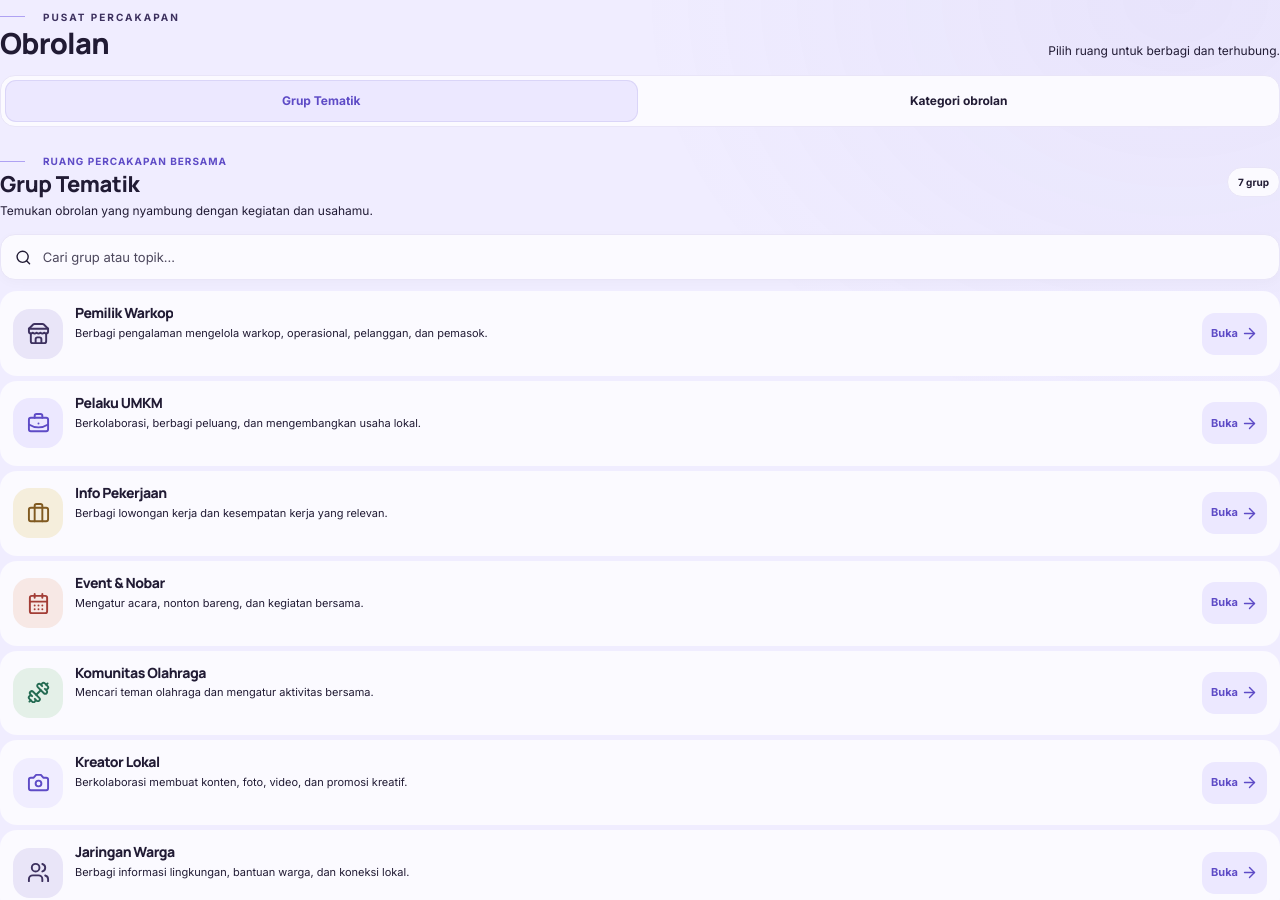
Obrolan directory › keeps the seven existing communities available in a separate tab
Click the tab "Kategori obrolan": [959, 101] box [642,80,1275,122]
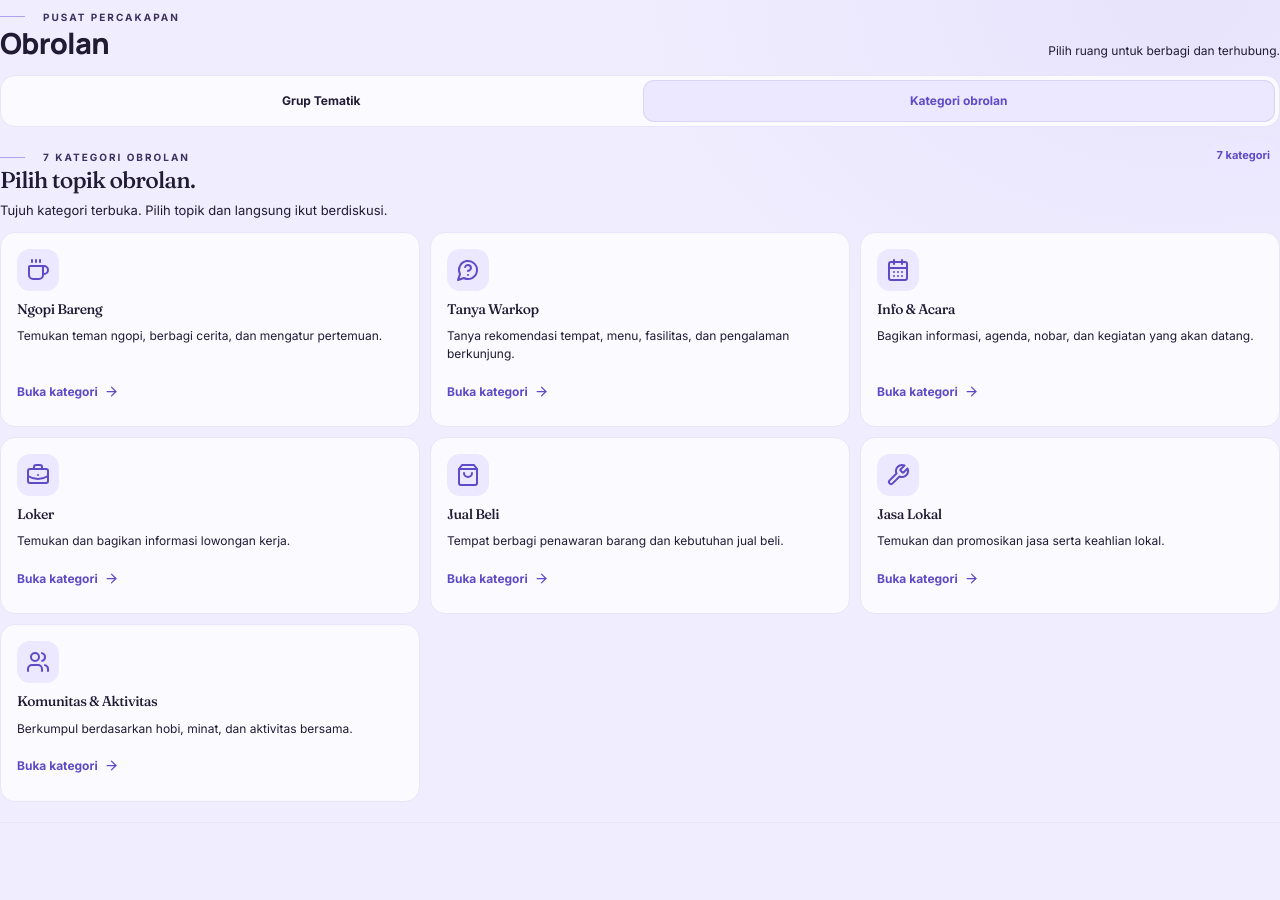
expect the heading "Pilih topik obrolan." is shown: met, box [0,166,195,194]
expect the heading "Ngopi Bareng" is shown: met, box [17,300,102,318]
